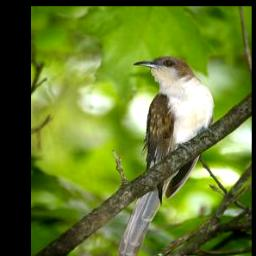Cuckoo: (116, 54, 216, 256)
